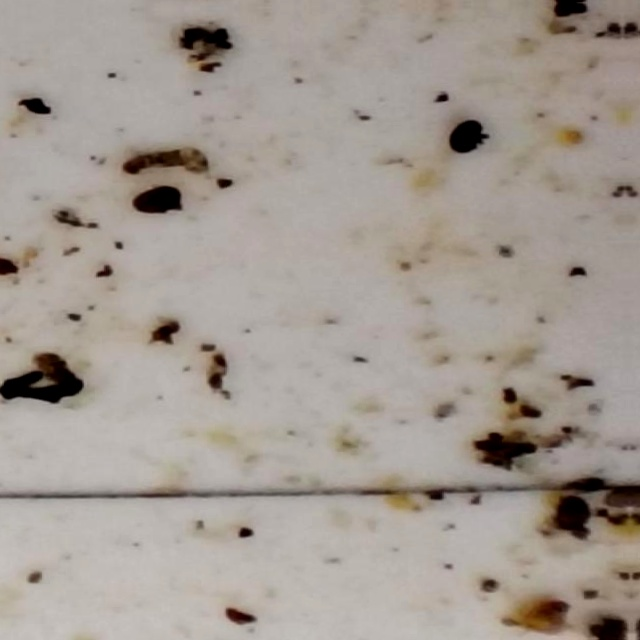varroa: (128, 187, 182, 219), (552, 494, 591, 535), (448, 119, 483, 157)
